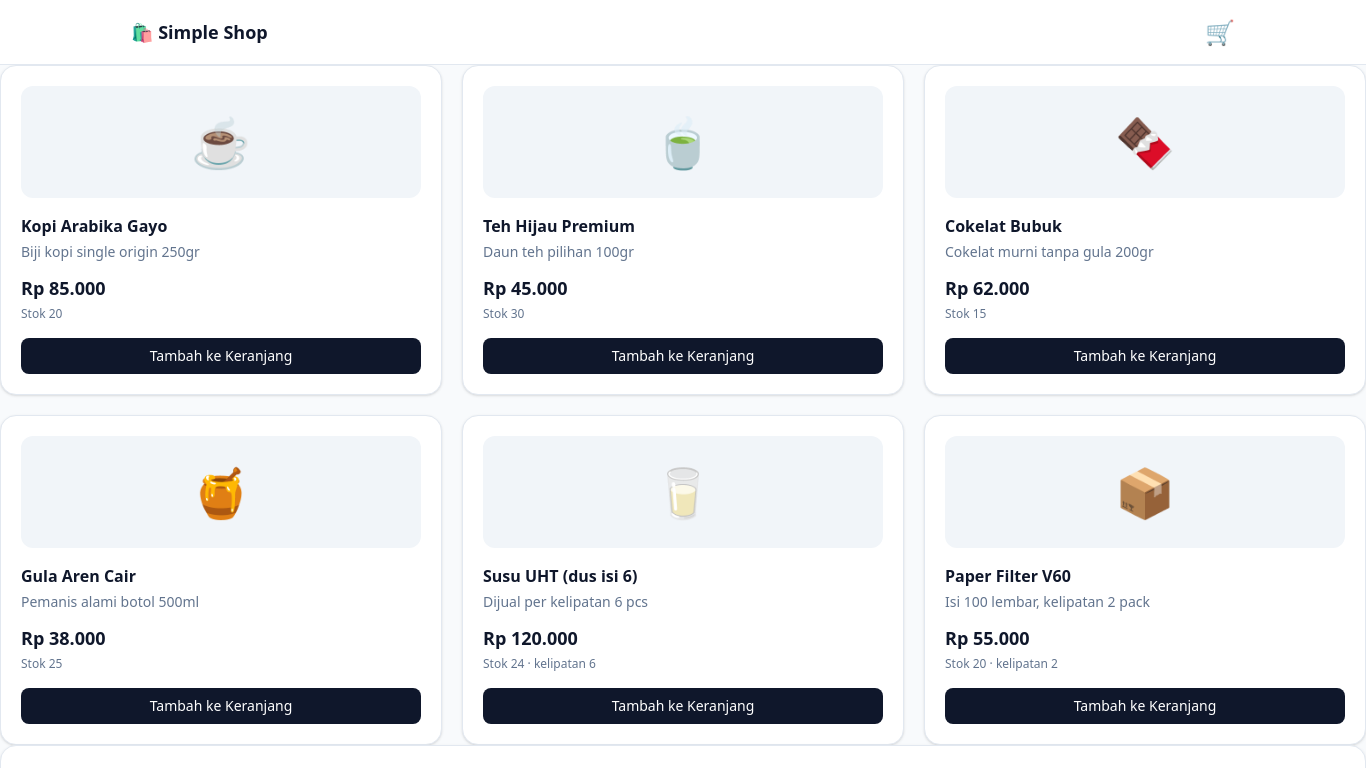
Test: Cart › menghapus item setelah konfirmasi
Click the button "Tambah ke Keranjang" below "Rp 85.000": [221, 356] box [21,338,421,374]
(page scrolled)
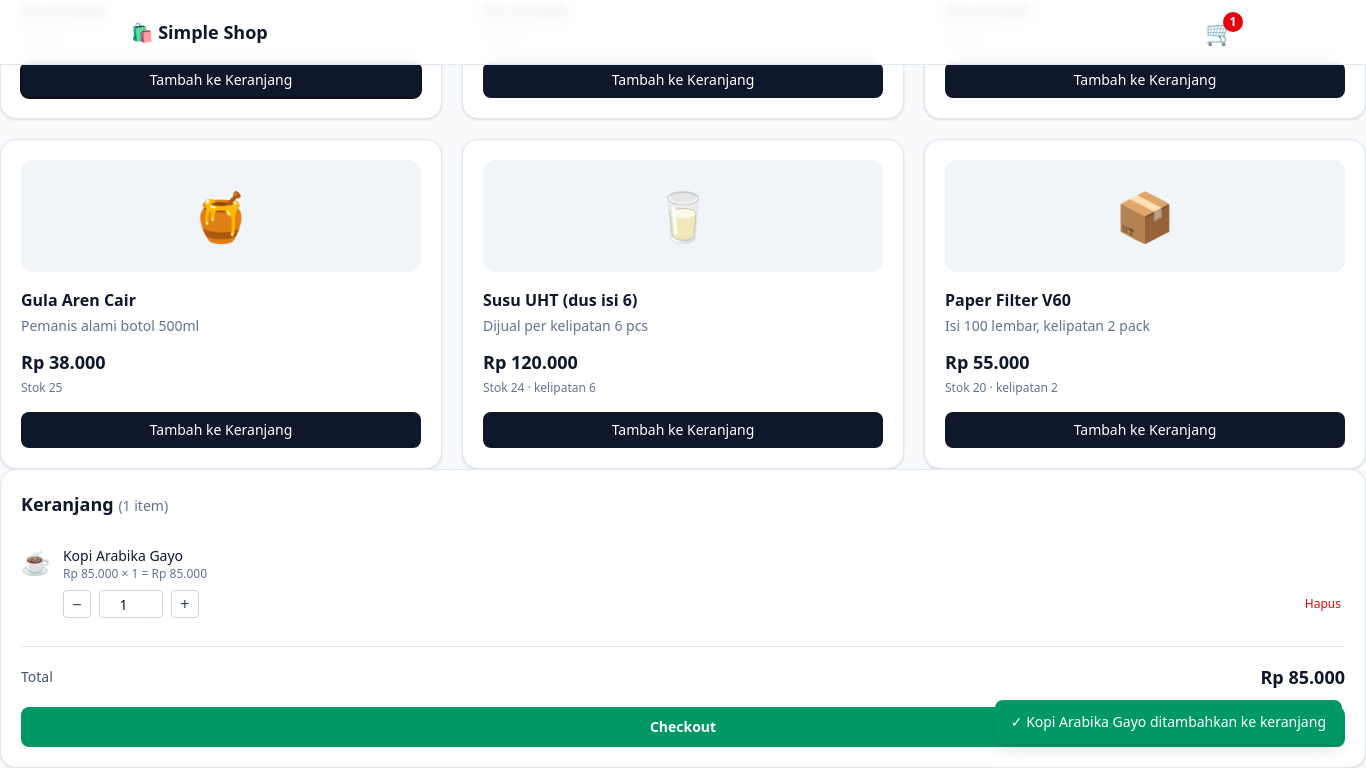
Click the button "Hapus": [1323, 604] box [1305,596,1341,612]
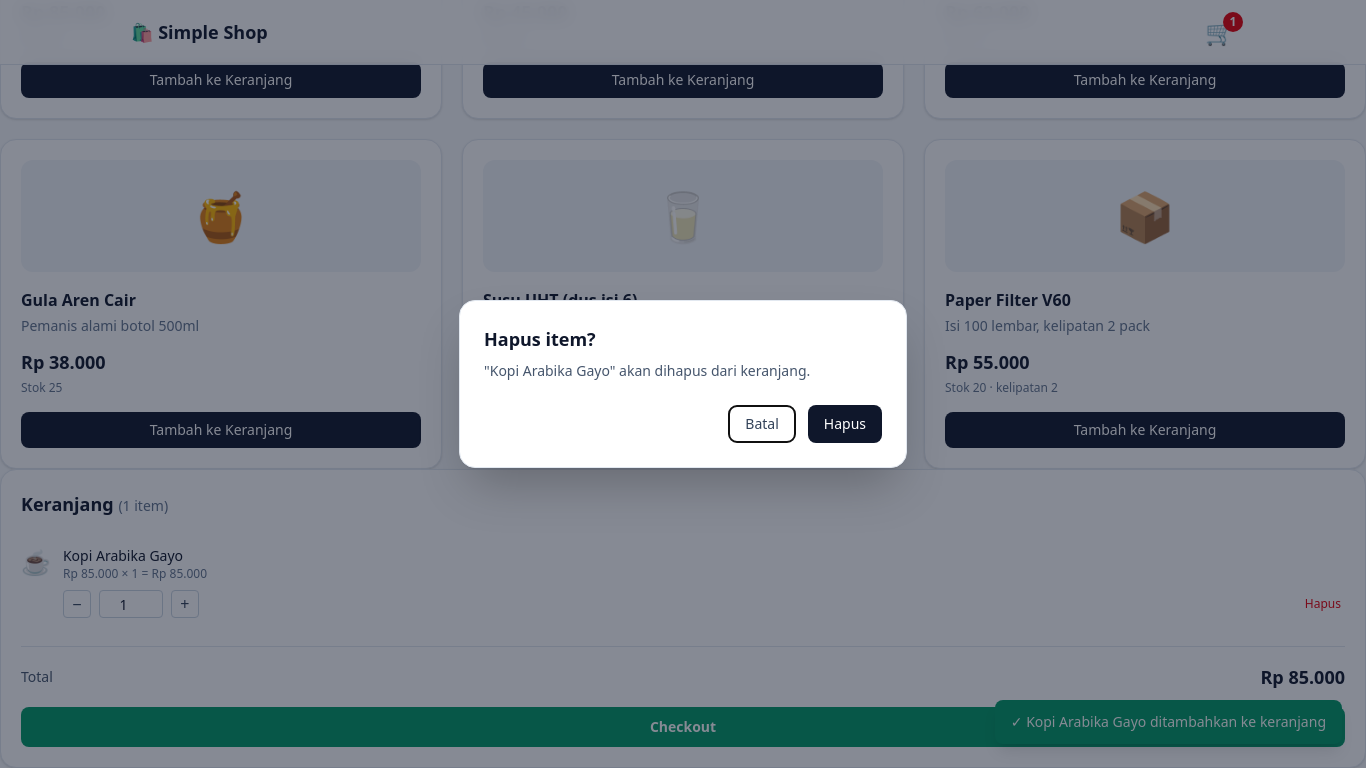
Click the button "Hapus": [845, 424] box [808,405,882,443]
(page scrolled)
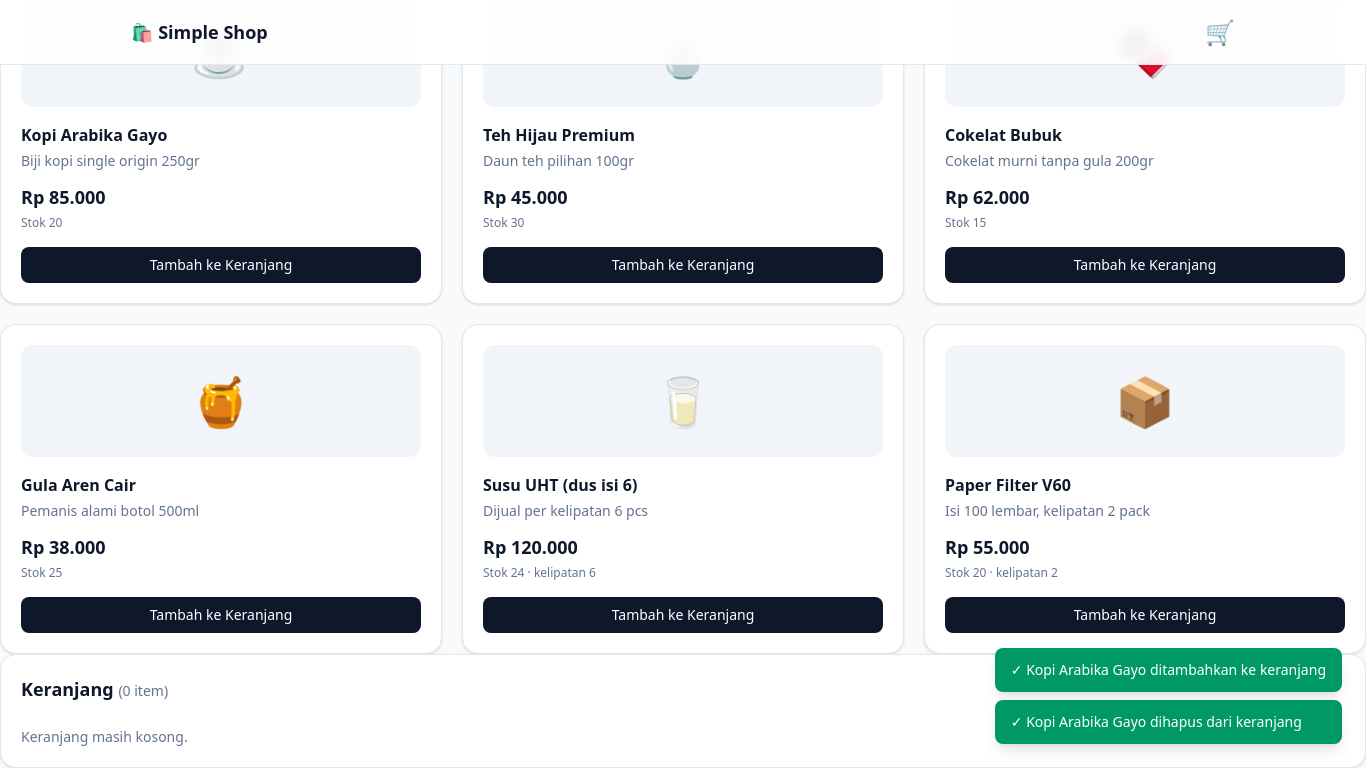
Result: the text "Keranjang masih kosong." is shown at [21,727,188,746]
